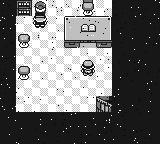leer: (34, 1, 46, 13)
main: (81, 61, 95, 75)
no-caminable: (1, 0, 160, 143), (65, 17, 111, 47), (17, 0, 31, 15)
npc: (33, 14, 47, 27), (18, 66, 30, 80), (18, 35, 30, 48)
puerta: (96, 96, 112, 112)
